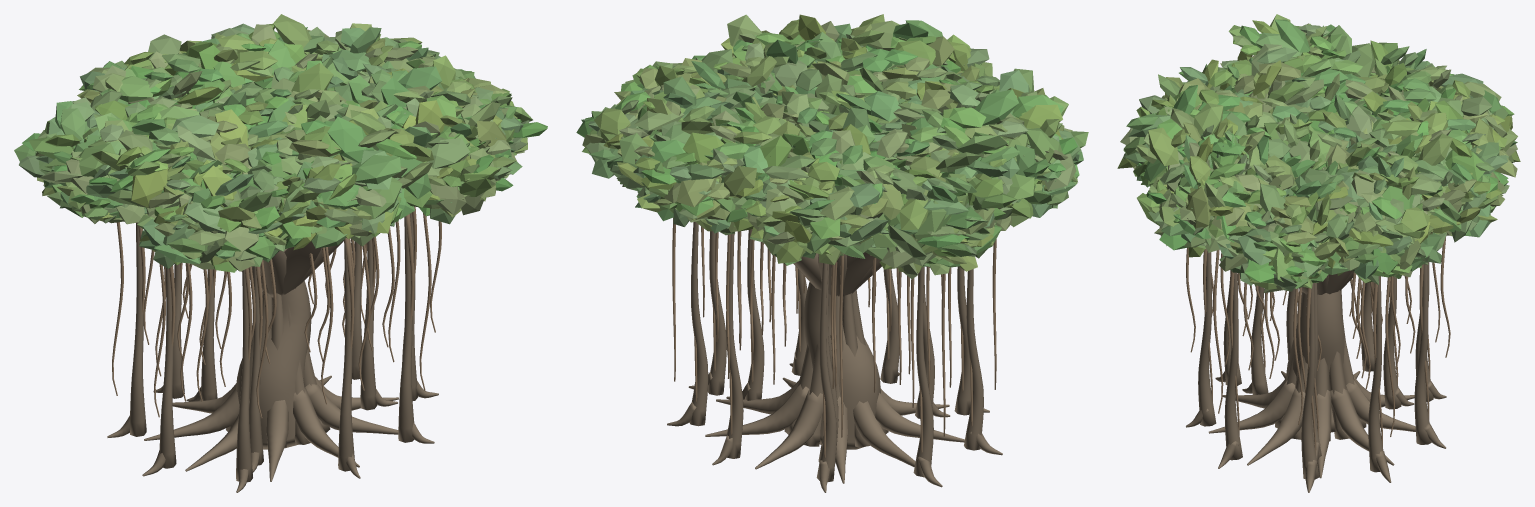
File: grade-banyan.glb
The picture shows the model from 3 angles, left to right: view 1: azimuth 30°, elevation 25°; view 2: azimuth 150°, elevation 25°; view 3: azimuth 270°, elevation 25°; orthographic projection. The views are drawn at different scales.
Parts seen in each view (by area): view 1: Evergreen canopy, Ancient curved trunk, Prop root 2.4, Prop root 6.4, Prop root 3.4, Prop root 4.4, Prop root 5.4, Prop root 4.2, Prop root 1.2, Surface buttress 3, Surface buttress 2, Surface buttress 6 (+10 smaller); view 2: Evergreen canopy, Ancient curved trunk, Prop root 7.4, Prop root 9.4, Prop root 6.4, Prop root 5.4, Prop root 8.4, Prop root 1.4, Surface buttress 8, Prop root 1.2, Surface buttress 9, Surface buttress 6 (+12 smaller); view 3: Evergreen canopy, Ancient curved trunk, Prop root 8.4, Prop root 3.4, Prop root 9.4, Prop root 2.4, Prop root 1.4, Surface buttress 9, Surface buttress 2, Surface buttress 3, Prop root 4.2, Prop root 7.2 (+12 smaller).
Part boxes in pixels (x1,y1,x2,y2): Evergreen canopy: [14, 14, 547, 272]; Ancient curved trunk: [236, 248, 311, 449]; Prop root 2.4: [398, 216, 414, 442]; Prop root 6.4: [130, 222, 146, 436]; Prop root 3.4: [338, 242, 354, 471]; Prop root 4.4: [236, 269, 252, 482]; Prop root 5.4: [159, 268, 176, 468]; Prop root 4.2: [249, 266, 263, 465]; Prop root 1.2: [360, 239, 377, 410]; Surface buttress 3: [293, 387, 359, 467]; Surface buttress 2: [305, 383, 398, 434]; Surface buttress 6: [144, 388, 239, 440]; Evergreen canopy: [576, 14, 1088, 279]; Ancient curved trunk: [803, 282, 880, 449]; Prop root 7.4: [816, 263, 836, 482]; Prop root 9.4: [689, 221, 708, 426]; Prop root 6.4: [913, 267, 933, 477]; Prop root 5.4: [964, 269, 983, 450]; Prop root 8.4: [726, 234, 743, 458]; Prop root 1.4: [707, 231, 726, 395]; Surface buttress 8: [755, 389, 823, 469]; Prop root 1.2: [744, 229, 764, 400]; Surface buttress 9: [705, 384, 809, 436]; Surface buttress 6: [853, 401, 915, 467]; Evergreen canopy: [1117, 14, 1520, 292]; Ancient curved trunk: [1285, 290, 1346, 432]; Prop root 8.4: [1414, 264, 1431, 444]; Prop root 3.4: [1198, 251, 1216, 426]; Prop root 9.4: [1368, 276, 1383, 472]; Prop root 2.4: [1224, 272, 1242, 460]; Prop root 1.4: [1301, 283, 1319, 479]; Surface buttress 9: [1330, 386, 1394, 465]; Surface buttress 2: [1247, 387, 1305, 465]; Surface buttress 3: [1208, 380, 1295, 433]; Prop root 4.2: [1250, 286, 1268, 394]; Prop root 7.2: [1383, 277, 1401, 409].
Size of the model in its own units: 4.56 by 3.39 by 3.63.
